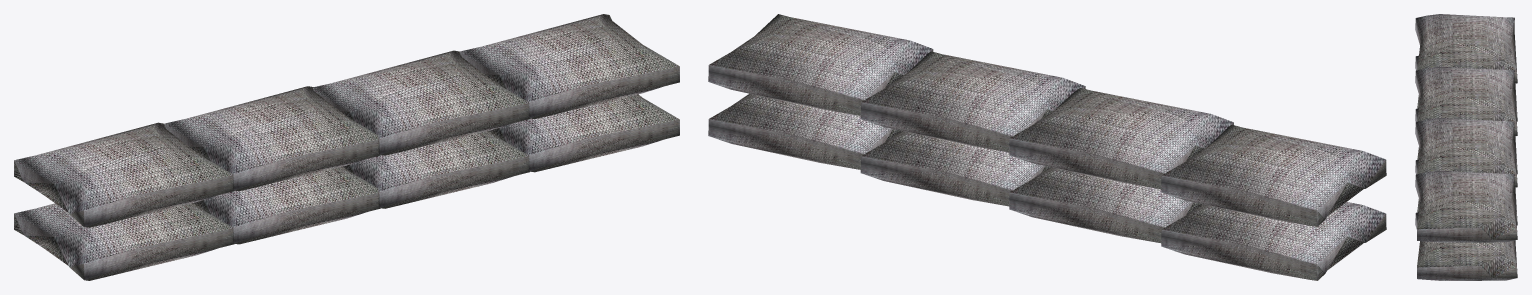
File: SaddleBag01.obj
3 views of the same model, side by side, from view 1: azimuth 30°, elevation 25°; view 2: azimuth 150°, elevation 25°; view 3: azimuth 270°, elevation 25° (orthographic). The views are drawn at different scales.
Parts seen in each view (by area): view 1: Box023, Box027, Box019, Box021, Box011, Box017, Box005, Box008; view 2: Box023, Box027, Box019, Box021, Box011, Box017, Box005, Box008; view 3: Box027, Box021, Box023, Box019, Box017, Box008, Box011, Box005.
Boxes of the visible parts, x1,y1,x2,y2 form: Box023: [14, 122, 234, 227]; Box027: [459, 14, 679, 118]; Box019: [164, 86, 384, 191]; Box021: [312, 50, 529, 155]; Box011: [14, 203, 234, 280]; Box017: [489, 94, 679, 172]; Box005: [193, 166, 384, 244]; Box008: [343, 131, 529, 208]; Box023: [1161, 125, 1386, 226]; Box027: [708, 14, 933, 115]; Box019: [1009, 88, 1233, 188]; Box021: [860, 51, 1085, 152]; Box011: [1161, 202, 1386, 280]; Box017: [708, 93, 901, 169]; Box005: [1009, 167, 1201, 242]; Box008: [860, 131, 1049, 206]; Box027: [1415, 170, 1517, 242]; Box021: [1415, 118, 1517, 187]; Box023: [1415, 14, 1517, 83]; Box019: [1415, 66, 1517, 136]; Box017: [1415, 212, 1517, 280]; Box008: [1415, 159, 1517, 225]; Box011: [1415, 55, 1517, 121]; Box005: [1415, 108, 1517, 174].
Bounding box in the file's own units: 15.34 × 2.68 × 3.16.
